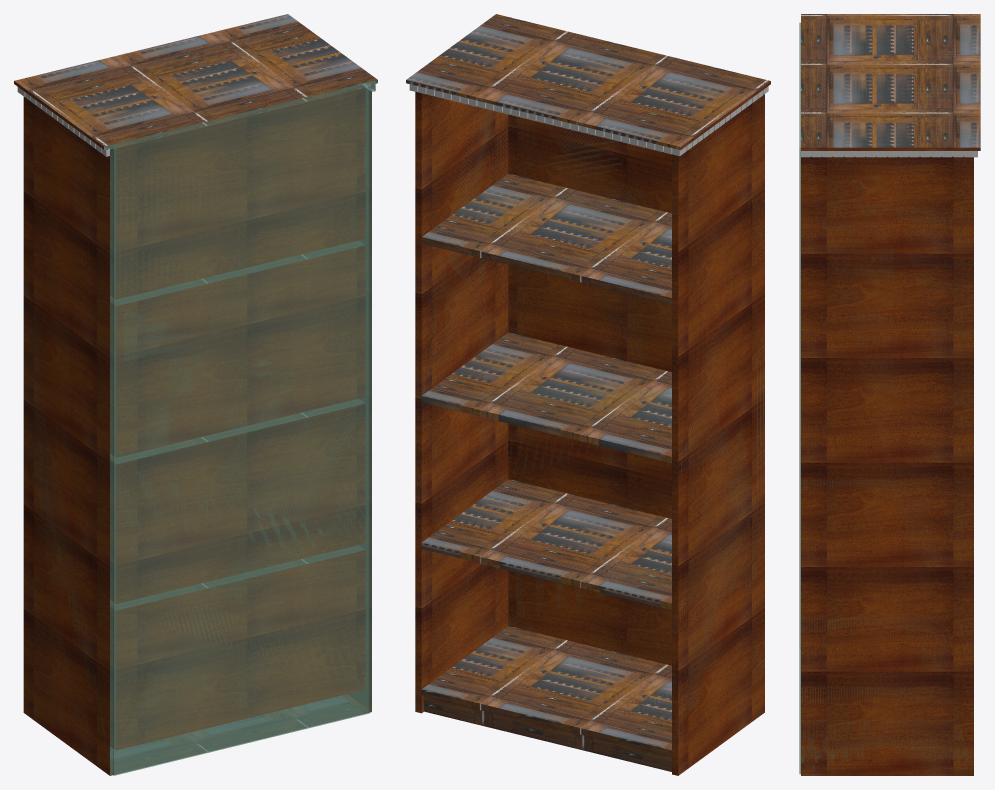
3 renders of one model, left to right at view 1: azimuth 30°, elevation 25°; view 2: azimuth 150°, elevation 25°; view 3: azimuth 270°, elevation 25°, orthographic.
Visible parts, largest first — view 1: mesh1_mesh1-geometry; view 2: mesh1_mesh1-geometry; view 3: mesh1_mesh1-geometry.
Part boxes in pixels (x1,y1,x2,y2): mesh1_mesh1-geometry: [14, 14, 377, 775]; mesh1_mesh1-geometry: [406, 14, 770, 775]; mesh1_mesh1-geometry: [799, 14, 980, 775].
Size of the model in its own units: 0.4024 by 0.8858 by 0.231.
